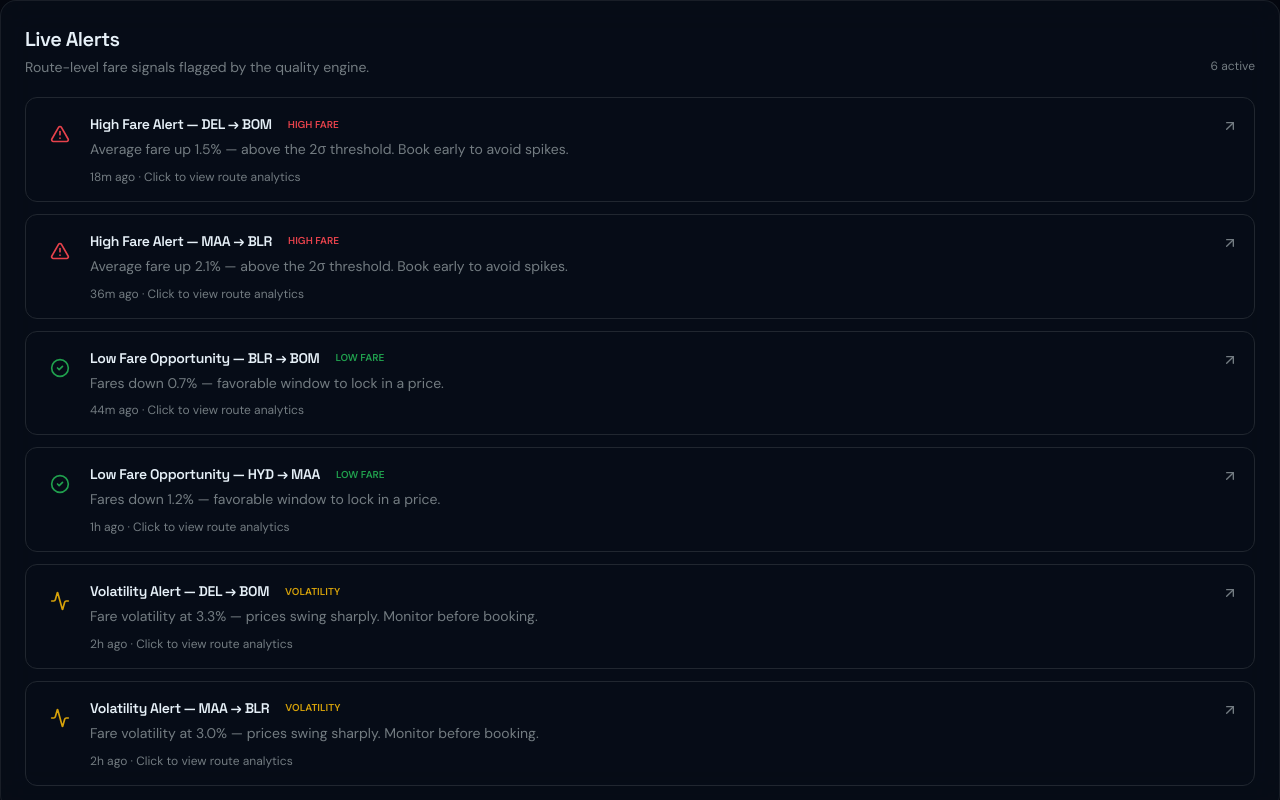
it: AlertsPanel › opens the route analytics when an alert is clicked
The image size is (1280, 800).
What coordinates should you click on to do the following:
click the button with test id "alert.high-del-bom"
I would click on:
 (181, 124)
Its box is [25,97,1255,202].
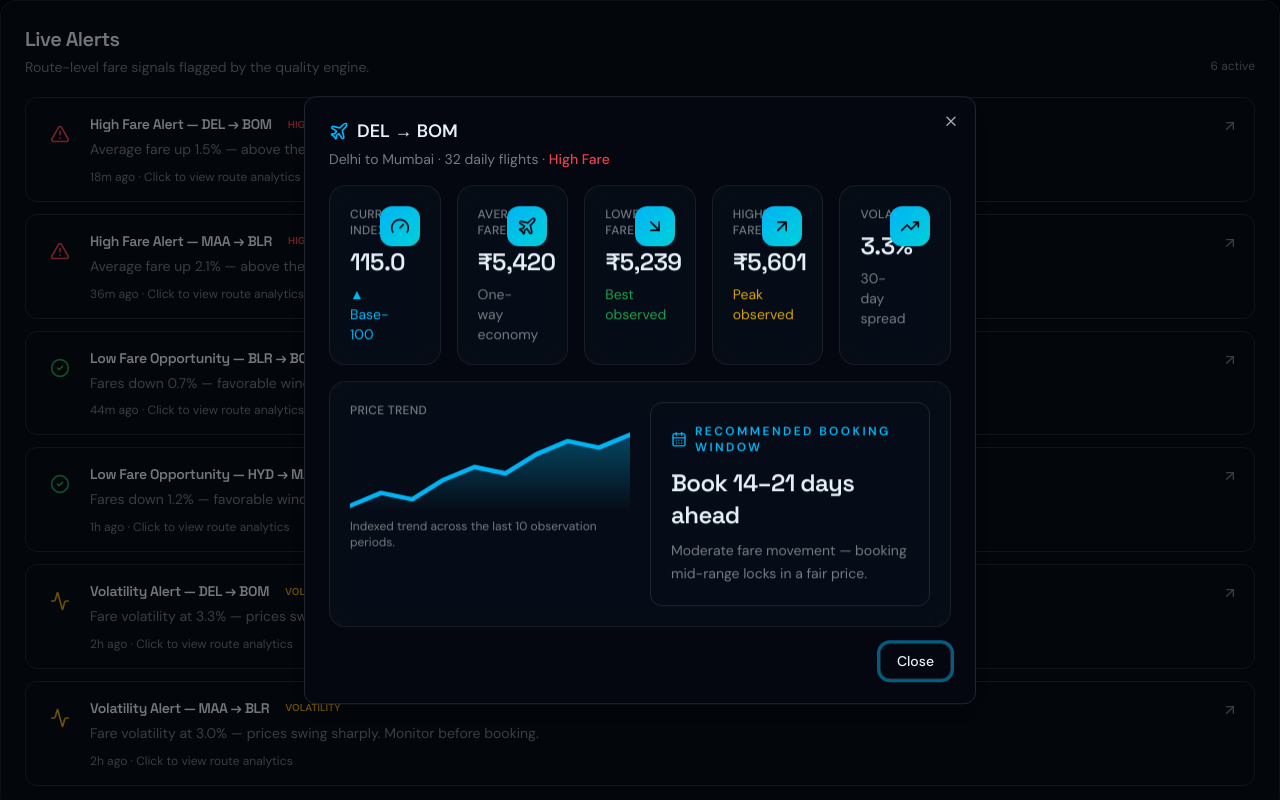
Check: the dialog is shown, box [304,96,976,704]
Check: the heading "DEL → BOM" is shown, box [329,119,458,143]
Check: the text "Current Index" is shown, box [350,206,368,238]
